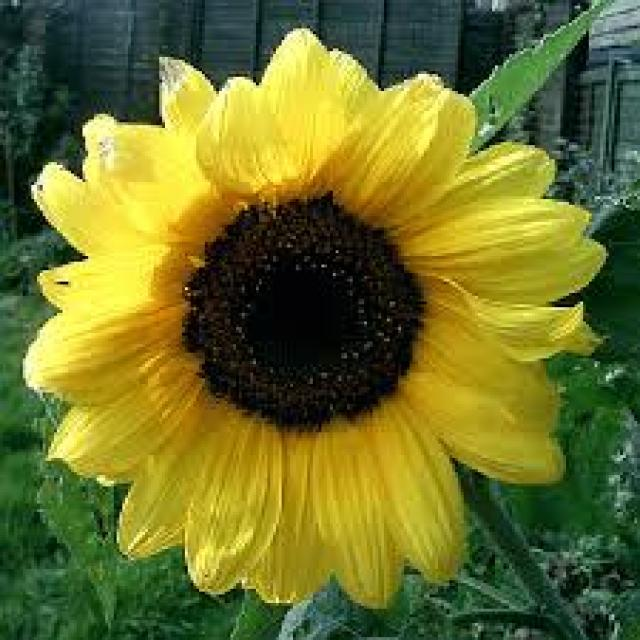sunflower: (16, 21, 613, 618)
